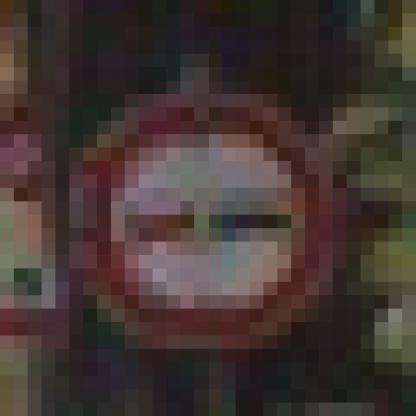No Overtaking: (70, 81, 348, 350)
